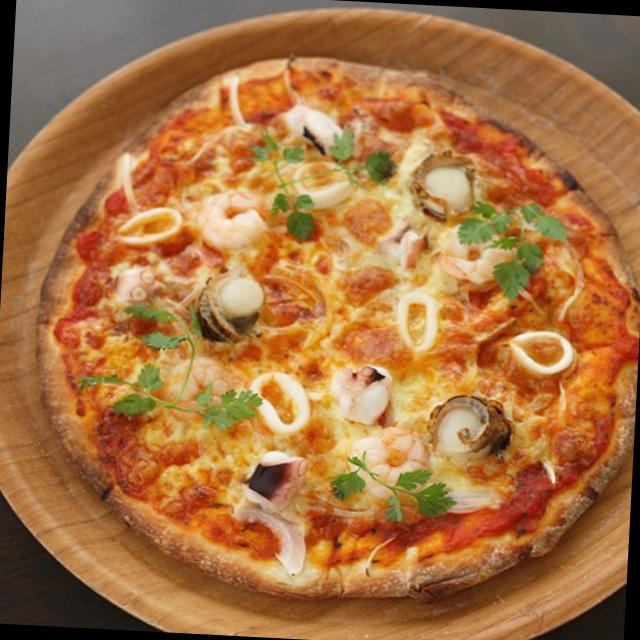Pizza: (19, 43, 640, 614)
